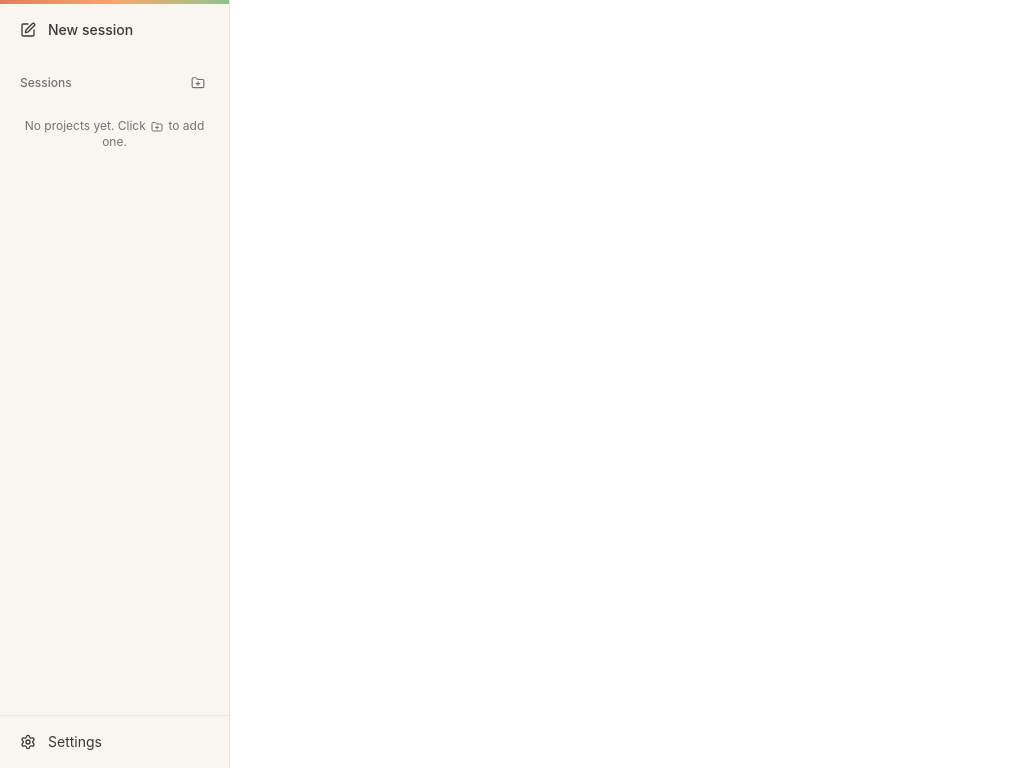
Test case: Sidebar workspace controls › falls back to manual inputs when the native picker is unavailable
Click the button named "Add a new directory" at (198, 83), box top-left (187, 72), bottom-right (209, 94)
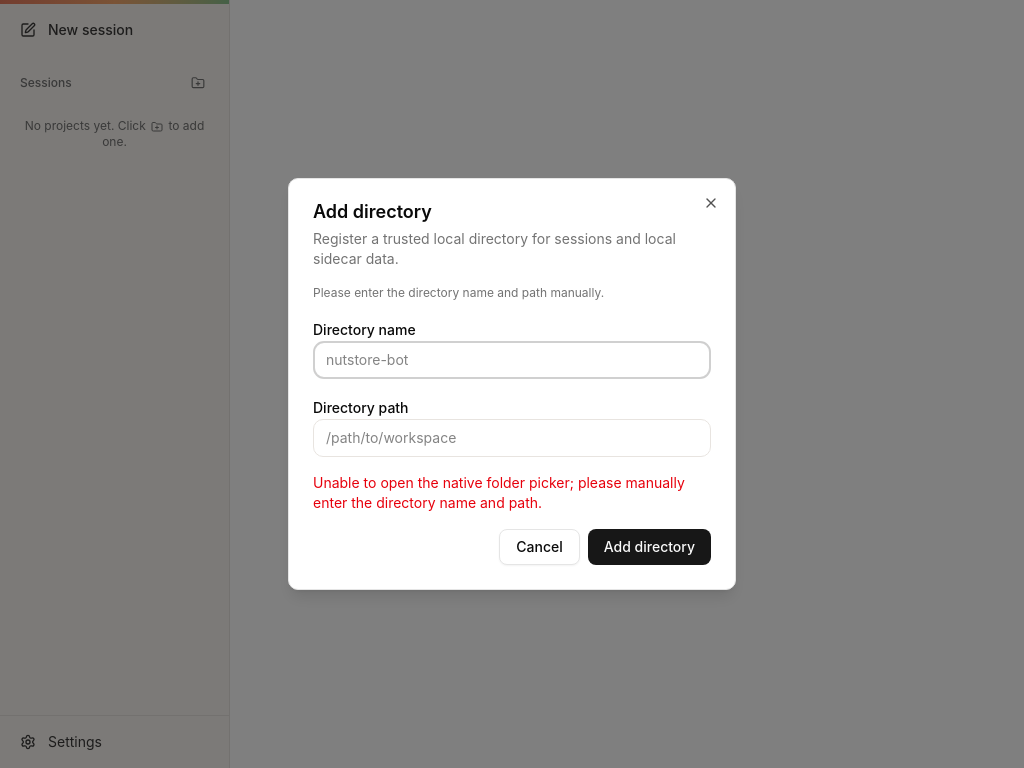
Now the text "Unable to open the native folder picker; please manually enter the directory name and path." is shown, box top-left (313, 474), bottom-right (685, 511)
Now the field labelled "Directory name" is shown, box top-left (313, 341), bottom-right (711, 379)
Now the field labelled "Directory path" is shown, box top-left (313, 419), bottom-right (711, 457)
